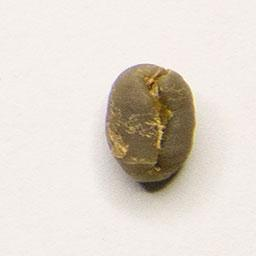peaberry: (101, 59, 198, 191)
